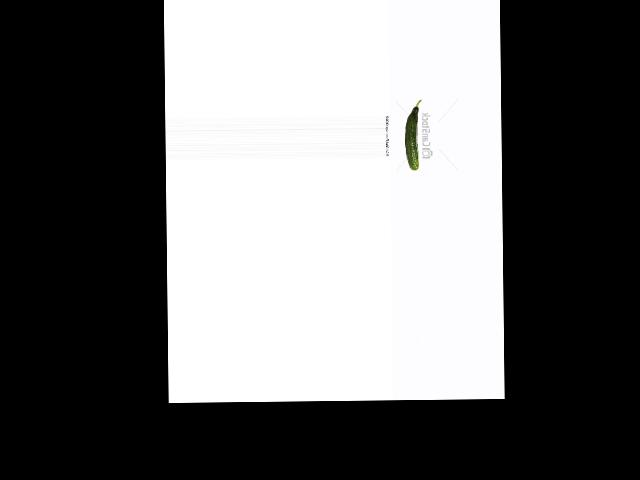cucumber: (404, 99, 422, 170)
